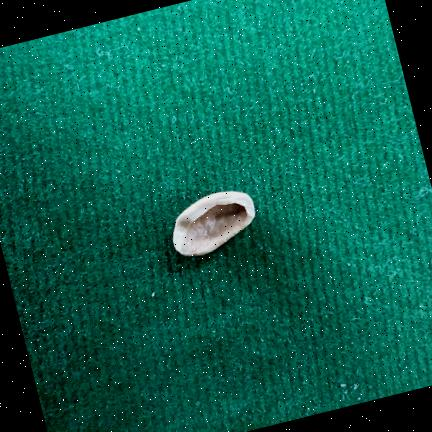shell: (172, 191, 255, 255)
